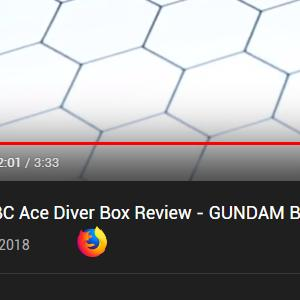firefox: (77, 225, 108, 258)
